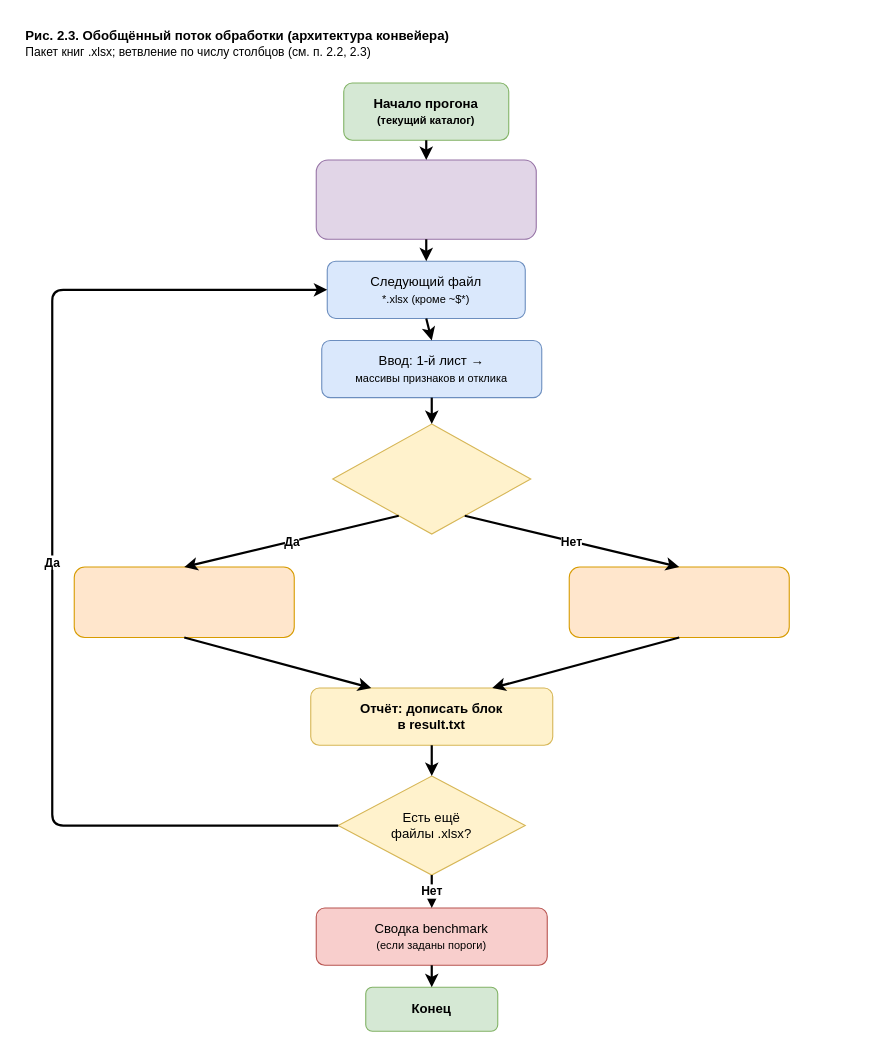
Some shapes in this 895 by 1051 pixel diagram are drawn without their labels. Each missing label, with the centre of its shape:
Конфигурация: gp_settings.json, base_functions.txt (если есть в каталоге): [425,199]
Столбцов ровно 2 ? (1D / MD): [431,478]
Ядро 1D SymbolicRegressionEngine, эвристики (ln y, exp): [183,601]
Ядро MD hold-out, baseline, GP, суперпозиция φ: [678,601]
